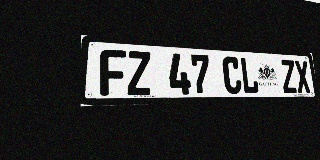4: (168, 53, 191, 95)
7: (189, 54, 212, 94)
C: (222, 56, 242, 94)
F: (100, 49, 127, 96)
L: (240, 57, 259, 94)
X: (294, 60, 311, 93)
Z: (127, 51, 152, 95), (280, 59, 298, 93)
